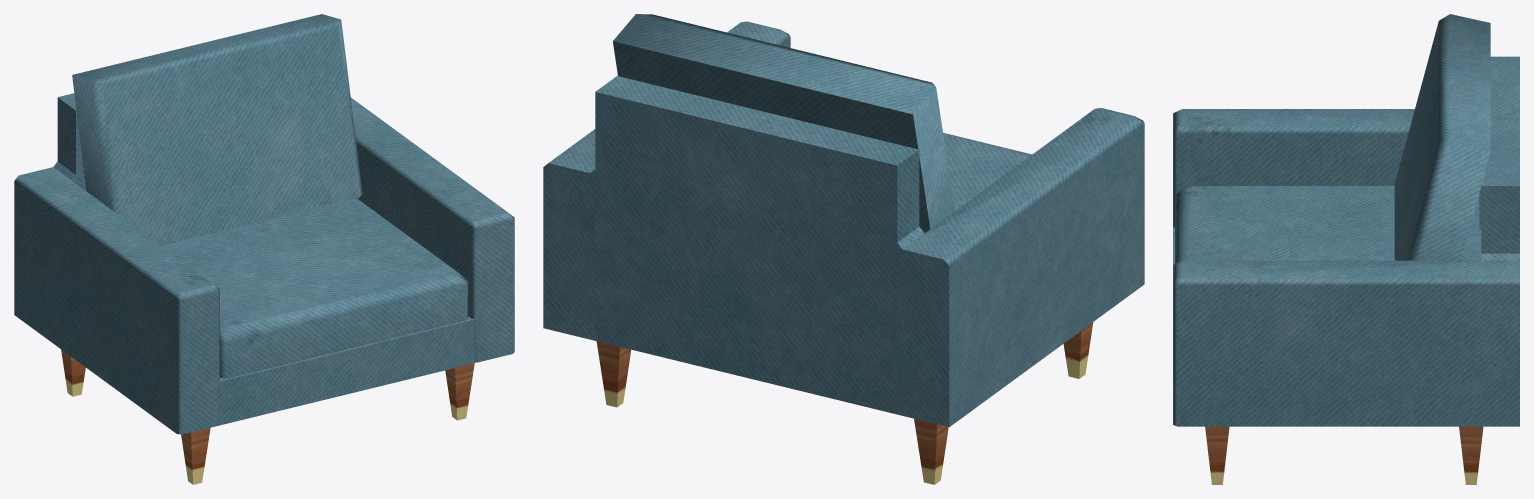
The model's file is chair.glb.
3 views of the same model, side by side, from view 1: azimuth 30°, elevation 25°; view 2: azimuth 150°, elevation 25°; view 3: azimuth 270°, elevation 25° (orthographic). The views are drawn at different scales.
Visible parts, largest first — view 1: Armchair; view 2: Armchair; view 3: Armchair.
Part boxes in pixels (<box>): Armchair: <box>14,14,514,484</box>; Armchair: <box>543,14,1144,484</box>; Armchair: <box>1173,14,1519,484</box>.
Bounding box in the file's own units: 1.33 × 1.2 × 1.12.
Materials: 1 (1 with a texture image).
